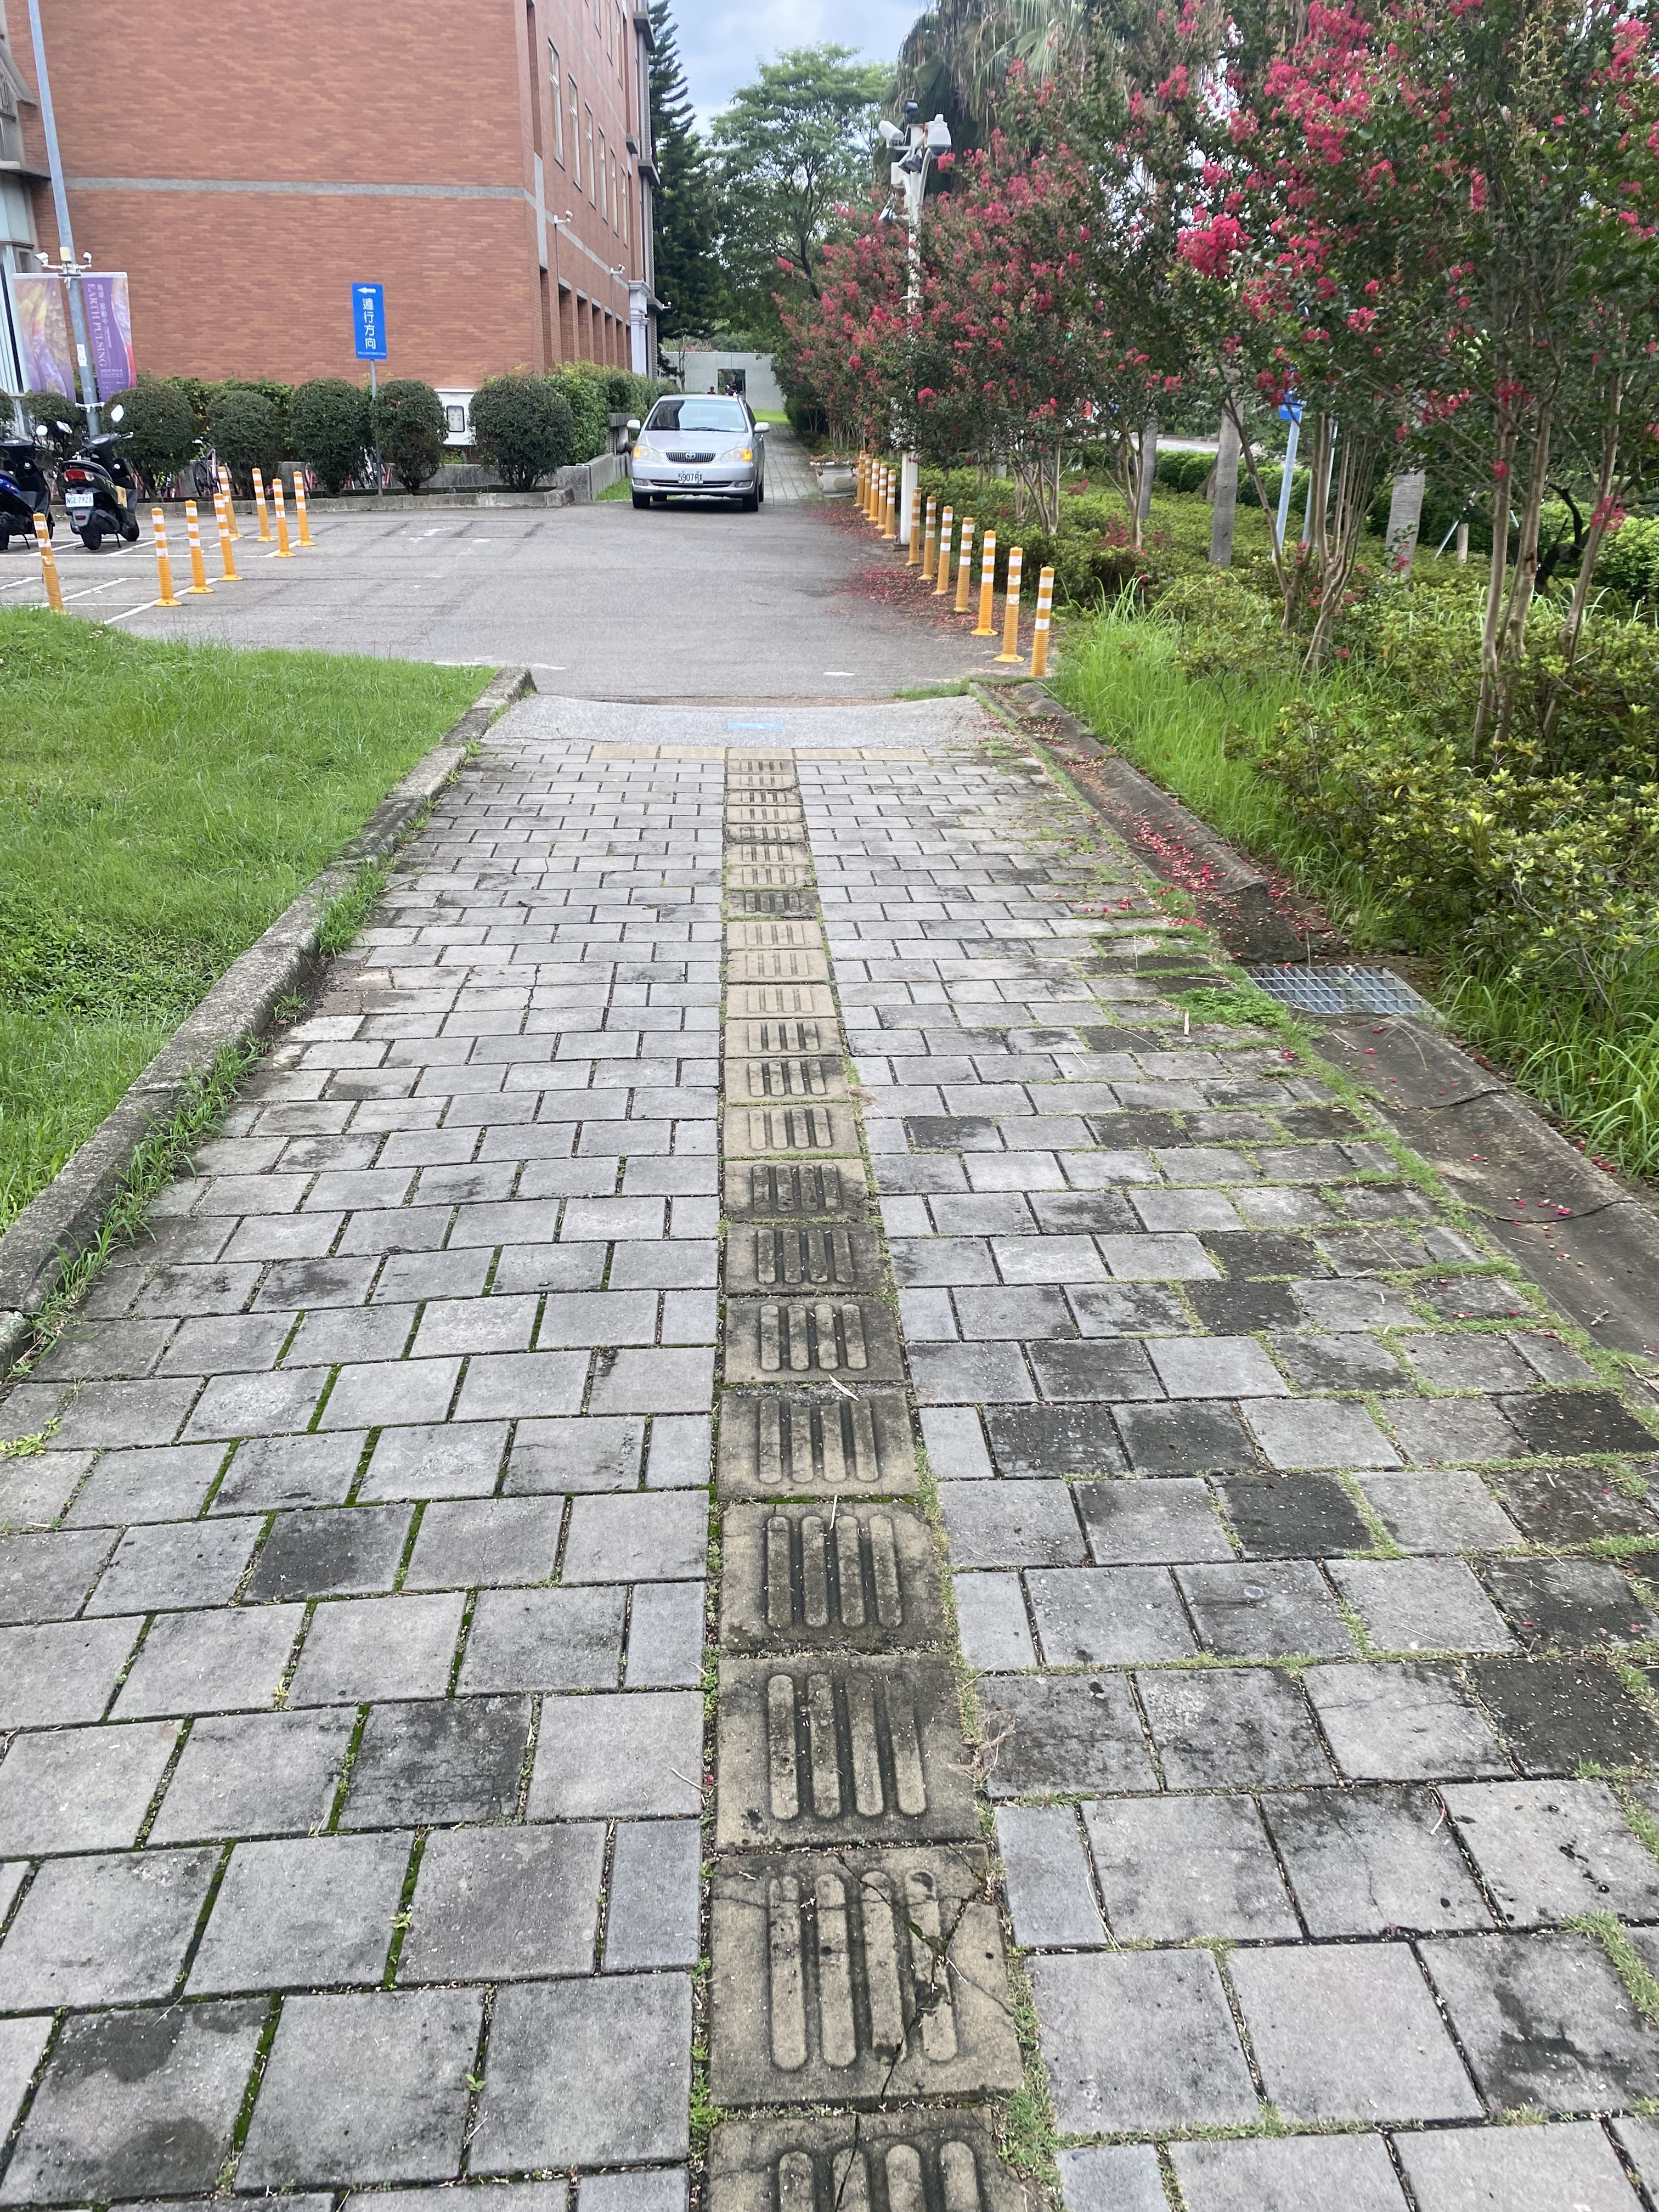0: (12, 662, 1659, 2212)
sidewalk: (542, 388, 925, 737)
